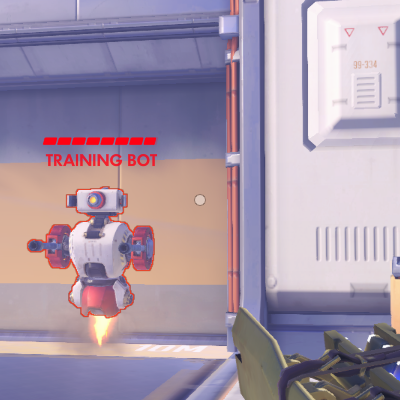hpbar: (42, 136, 159, 146)
